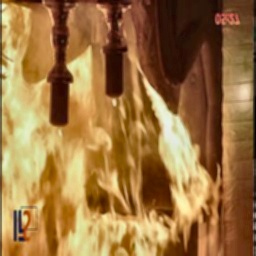fire: (3, 0, 230, 255)
